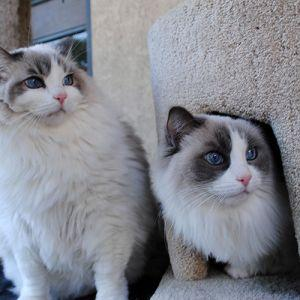ragdoll: (157, 99, 283, 210)
